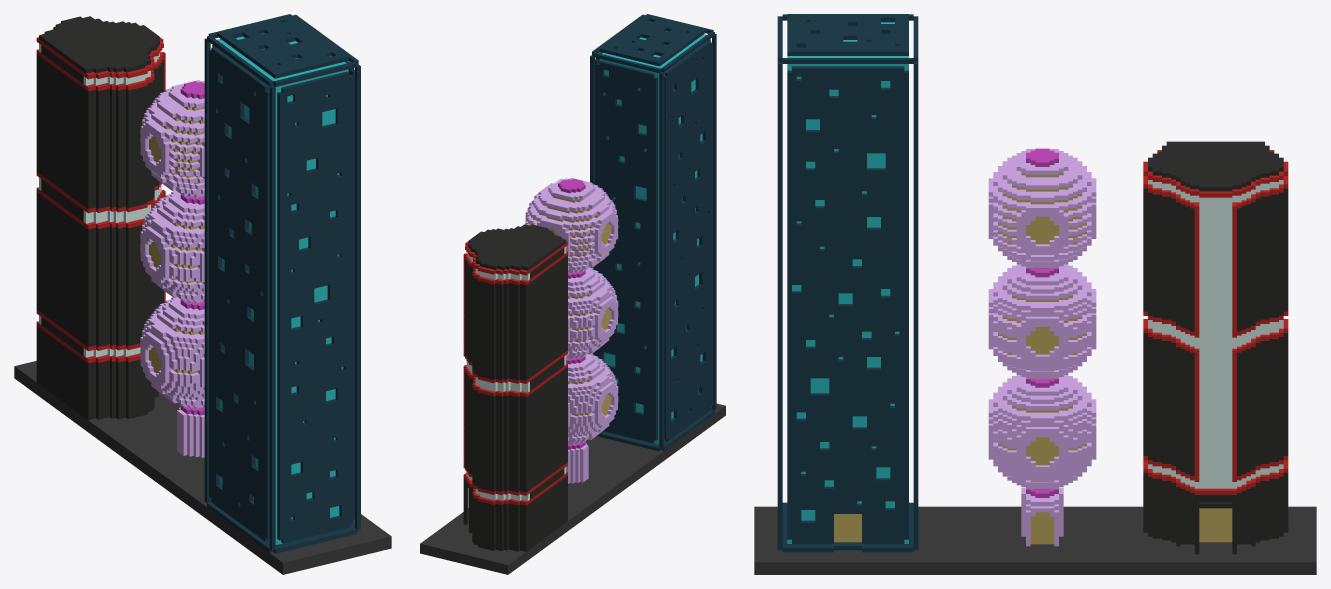
Rendered from SM_Environment_Street10.fbx.
3 views of the same model, side by side, from view 1: azimuth 30°, elevation 25°; view 2: azimuth 150°, elevation 25°; view 3: azimuth 270°, elevation 25° (orthographic). The views are drawn at different scales.
Parts seen in each view (by area): view 1: Street10; view 2: Street10; view 3: Street10.
Part boxes in pixels (x1,y1,x2,y2): Street10: [14, 14, 391, 574]; Street10: [420, 14, 725, 574]; Street10: [754, 14, 1316, 574].
Bounding box in the file's own units: 560 × 2400 × 2400.
5 materials, 1 textured.
